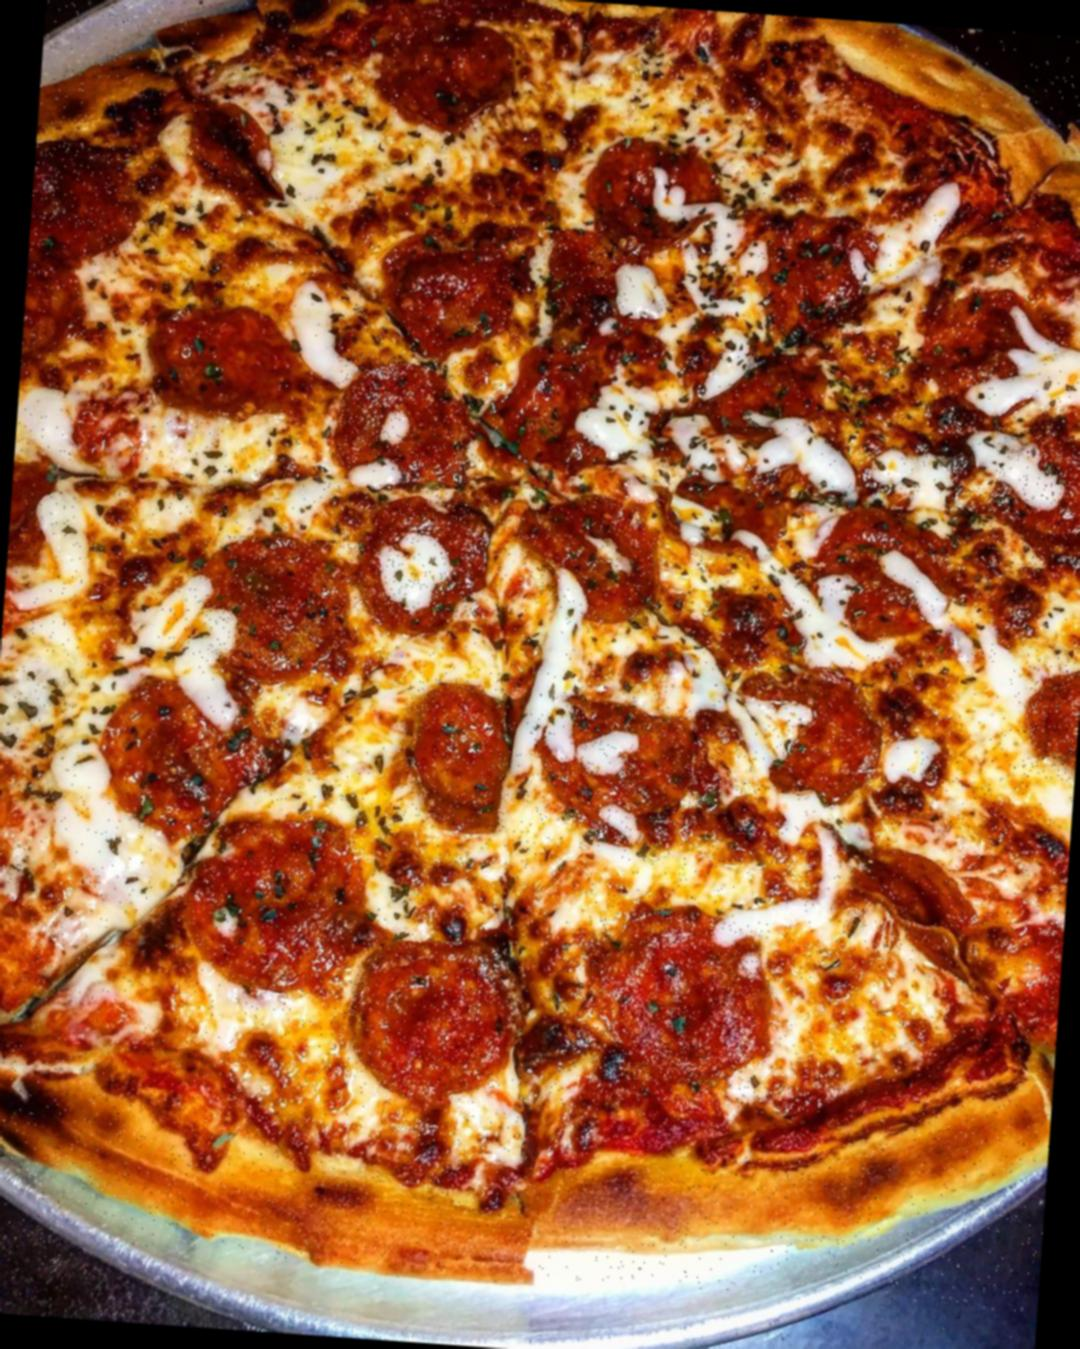Pepperoni: (579, 910, 762, 1109), (171, 819, 358, 995), (793, 509, 975, 663), (344, 938, 506, 1103), (825, 837, 995, 993), (74, 663, 256, 808), (529, 698, 715, 835), (181, 531, 355, 671), (493, 488, 666, 620), (501, 322, 654, 471), (735, 660, 874, 809), (337, 482, 488, 618), (666, 424, 821, 550), (396, 667, 516, 824), (139, 307, 314, 411), (577, 125, 731, 240), (335, 354, 479, 476), (29, 139, 163, 265), (367, 28, 539, 126), (753, 217, 877, 341), (905, 281, 1045, 388), (377, 241, 521, 338), (989, 427, 1080, 578), (693, 350, 851, 432), (20, 250, 88, 377), (534, 230, 631, 313), (1020, 662, 1080, 780)
Pizza: (0, 0, 1080, 1312)
